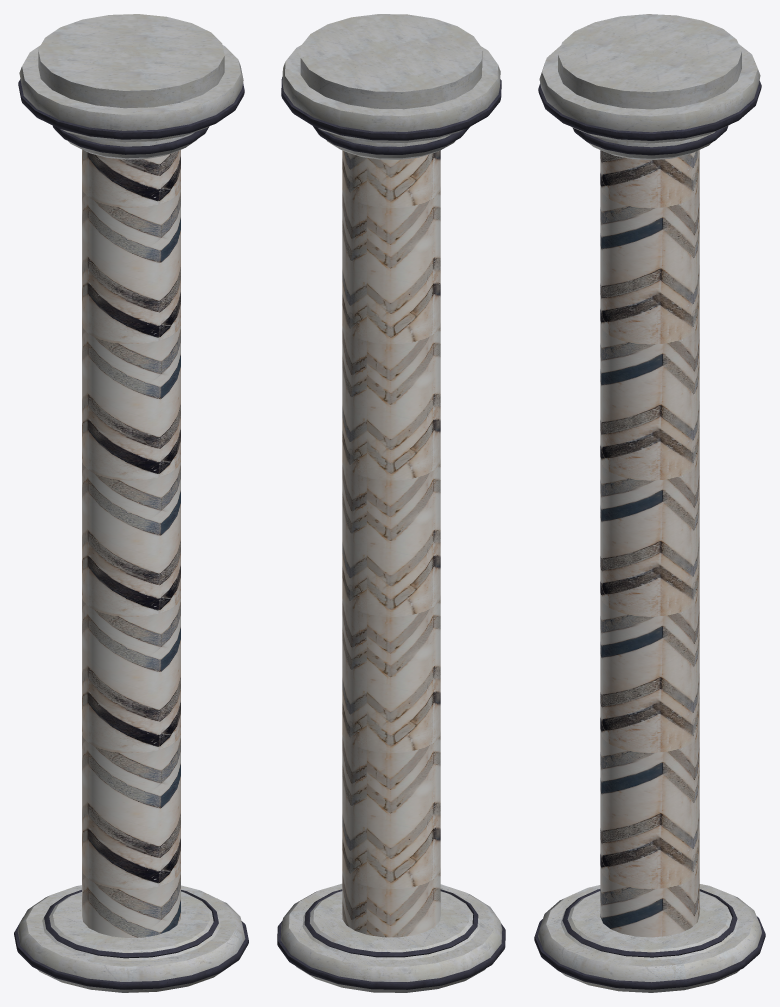
Rendered from pillar.glb.
3 renders of one model, left to right at view 1: azimuth 30°, elevation 25°; view 2: azimuth 150°, elevation 25°; view 3: azimuth 270°, elevation 25°, orthographic.
Parts seen in each view (by area): view 1: Pillar; view 2: Pillar; view 3: Pillar.
Part boxes in pixels (x1,y1,x2,y2): Pillar: (14, 14, 248, 992); Pillar: (277, 14, 505, 992); Pillar: (534, 14, 765, 992).
Bounding box in the file's own units: 0.00549 × 0.0232 × 0.00544.
Materials: 3 (3 with a texture image).
